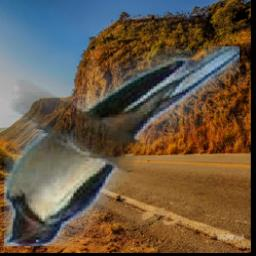Swallow: (5, 46, 241, 246)
